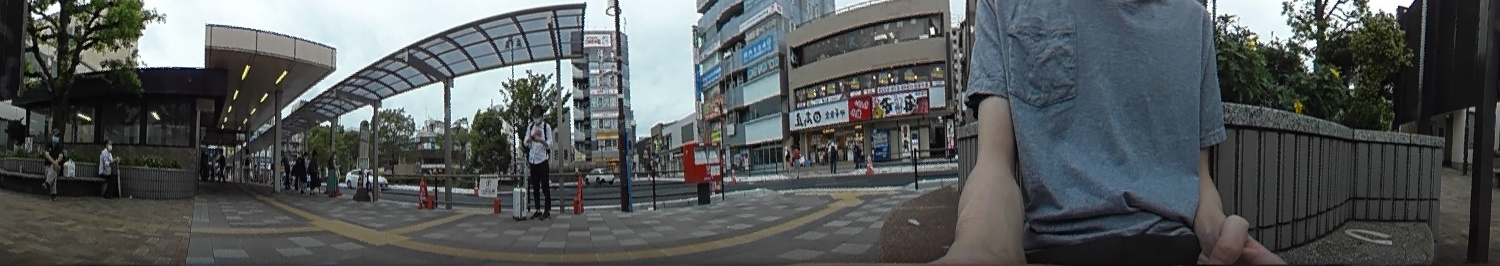difficult_person: (326, 149, 340, 196), (308, 148, 320, 191), (790, 146, 804, 179), (299, 151, 309, 194), (827, 137, 838, 171), (281, 153, 291, 189), (241, 148, 250, 181)
person: (526, 105, 551, 214), (95, 138, 122, 199), (40, 129, 64, 197)
